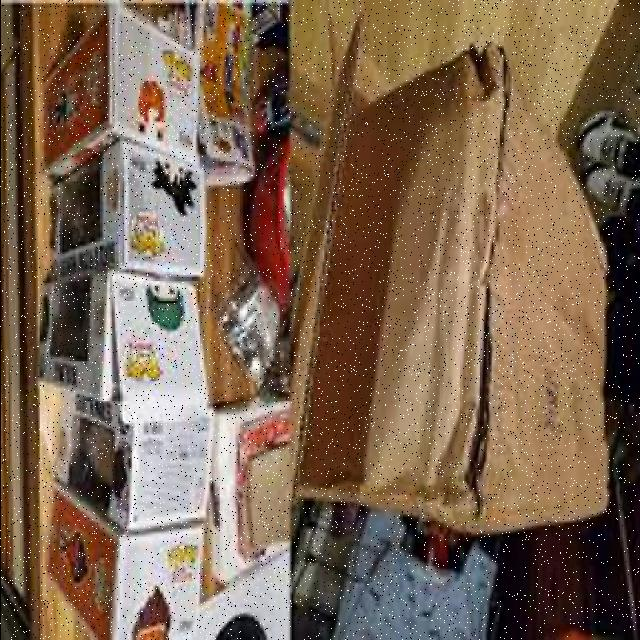defect: (266, 46, 614, 528)
